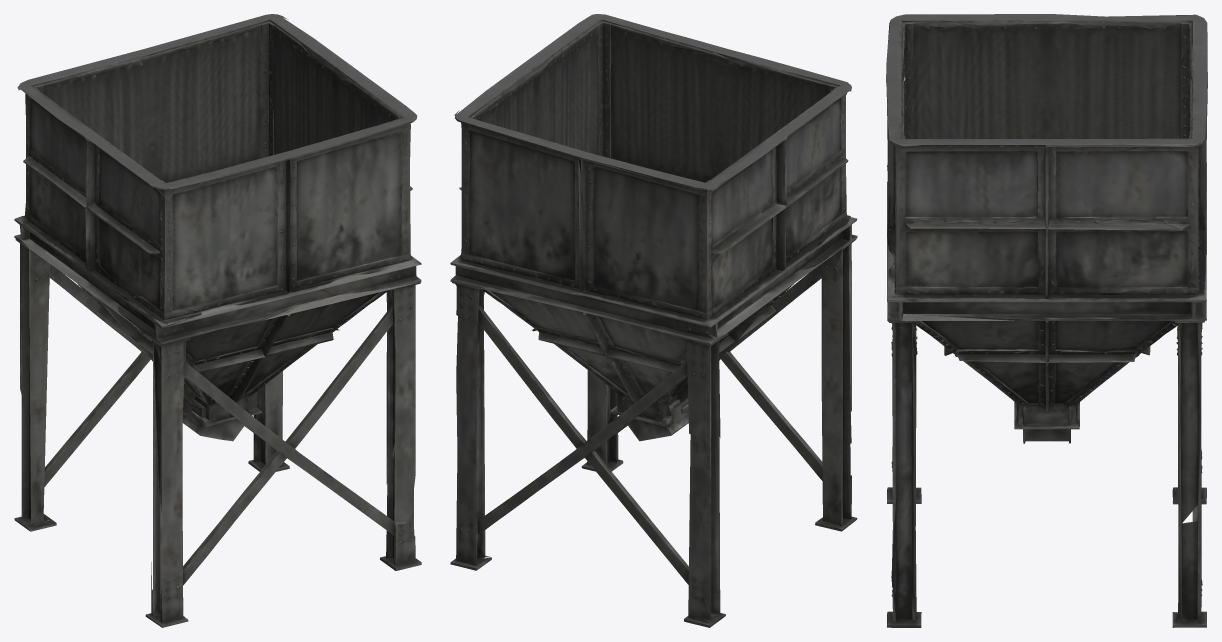
File: p2_siebhaus_hopper.glb
3 renders of one model, left to right at view 1: azimuth 30°, elevation 25°; view 2: azimuth 150°, elevation 25°; view 3: azimuth 270°, elevation 25°, orthographic. The views are drawn at different scales.
Parts seen in each view (by area): view 1: main; view 2: main; view 3: main.
Part boxes in pixels (left/top/right/bottom): main: left=14, top=14, right=421, bottom=627; main: left=450, top=14, right=857, bottom=627; main: left=886, top=14, right=1207, bottom=627.
Size of the model in its own units: 2.61 by 4.2 by 2.53.
1 material, 1 textured.
